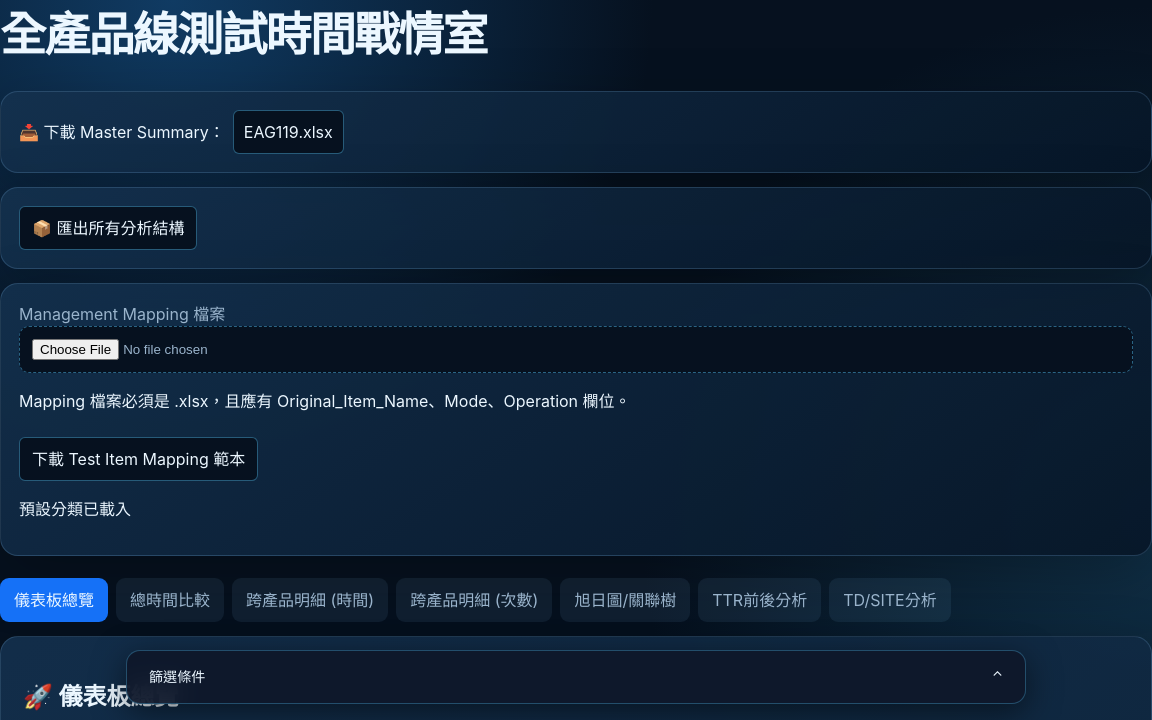
Scenario: DashboardPage › filters Dashboard totals by Station
This screenshot has width=1152, height=720.
What coordinates should you click on to do the following:
click the button "篩選條件 ⌃"
I would click on:
 (177, 677)
Its box is [141, 661, 1011, 693].
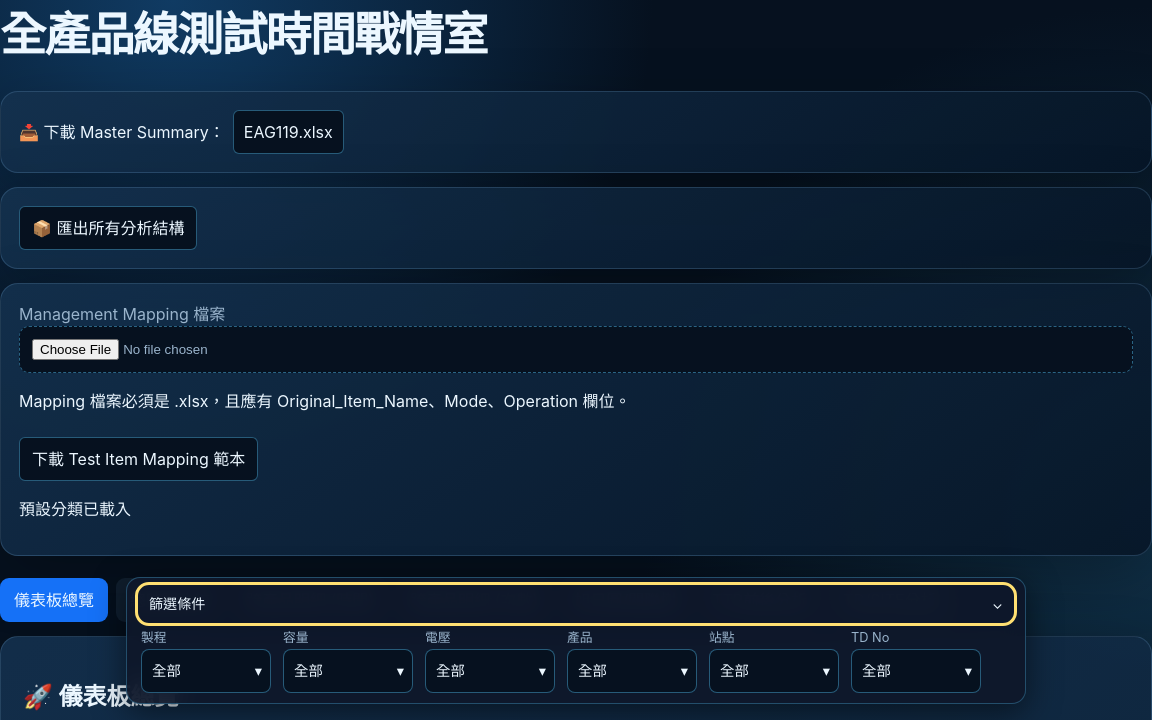
What coordinates should you click on to do the following:
click the button "全部 ▾" below "站點"
I would click on:
 (774, 671)
Its box is [709, 649, 839, 693].
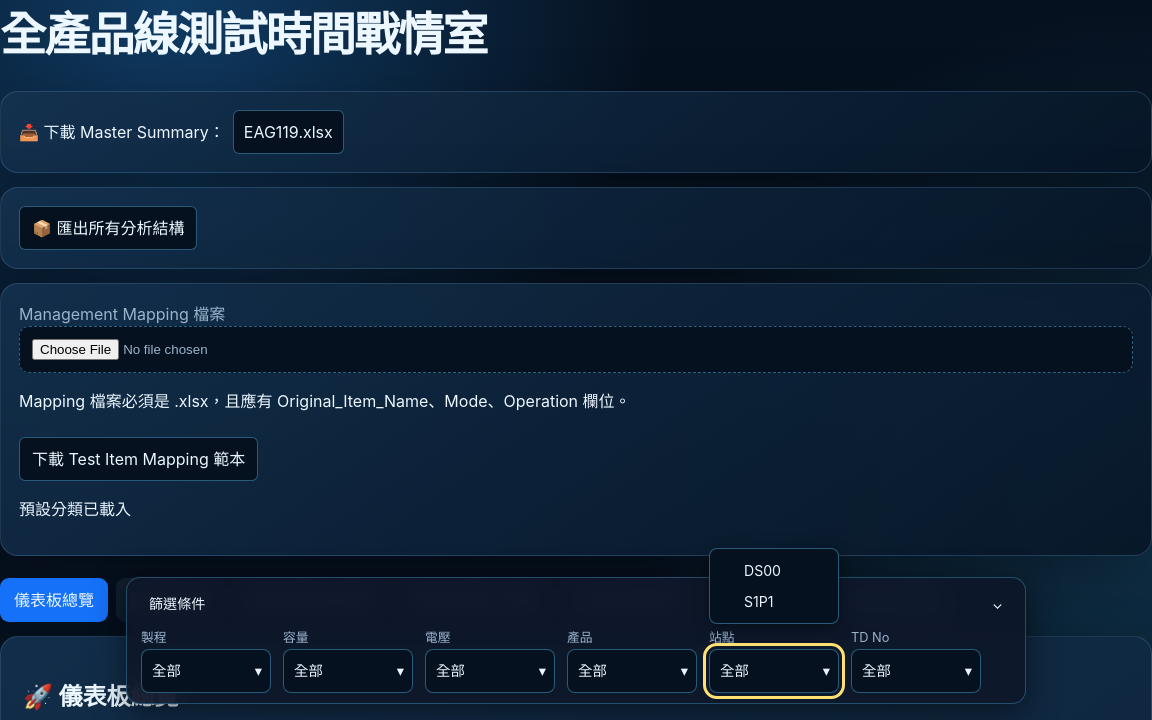
What coordinates should you click on to do the following:
click the option "DS00"
I would click on:
 (762, 570)
Its box is [744, 562, 781, 579].
(page scrolled)
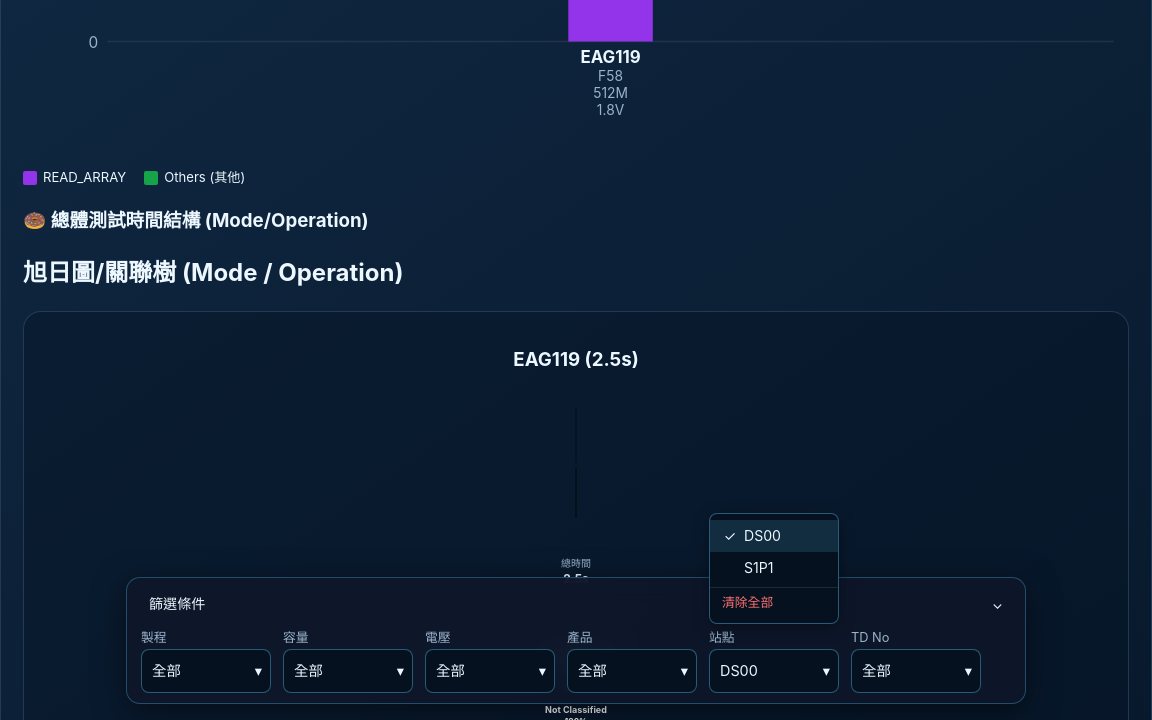
Result: the heading "EAG119 (2.5s)" is shown at [513, 346, 639, 374]
